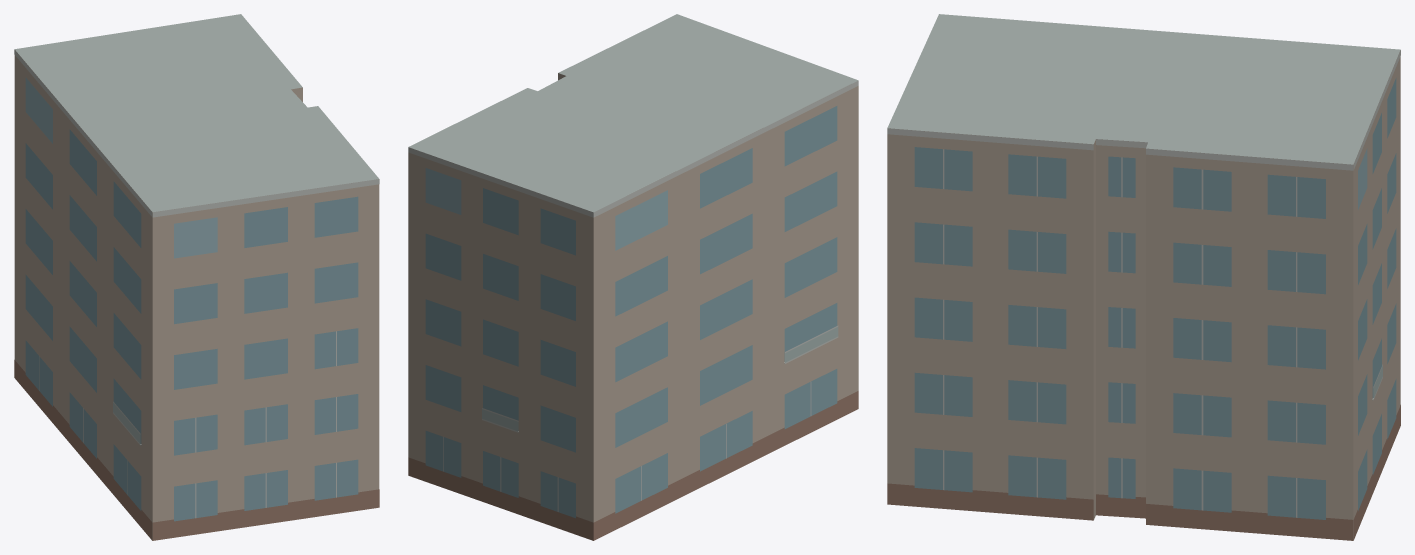
Rendered from survey-upis-32707725.glb.
3 renders of one model, left to right at view 1: azimuth 30°, elevation 25°; view 2: azimuth 150°, elevation 25°; view 3: azimuth 270°, elevation 25°, orthographic. The views are drawn at different scales.
Visible parts, largest first — view 1: survey-upis-32707725.tmp; view 2: survey-upis-32707725.tmp; view 3: survey-upis-32707725.tmp.
Boxes of the visible parts, x1,y1,x2,y2 form: survey-upis-32707725.tmp: [14, 14, 379, 540]; survey-upis-32707725.tmp: [408, 14, 858, 540]; survey-upis-32707725.tmp: [887, 14, 1400, 540].
Bounding box in the file's own units: 12.97 × 15.1 × 18.69.
